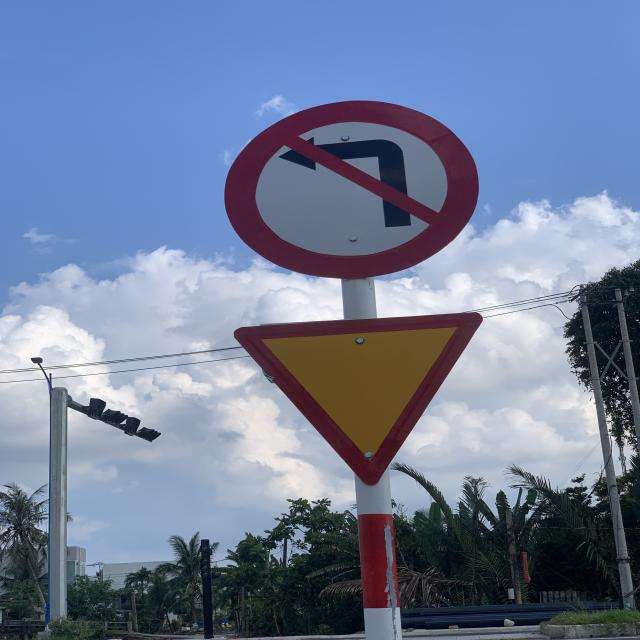Cam_Re_Trai: (227, 97, 480, 282)
Gioi_Han_Toc_Do_25: (235, 313, 490, 483)
